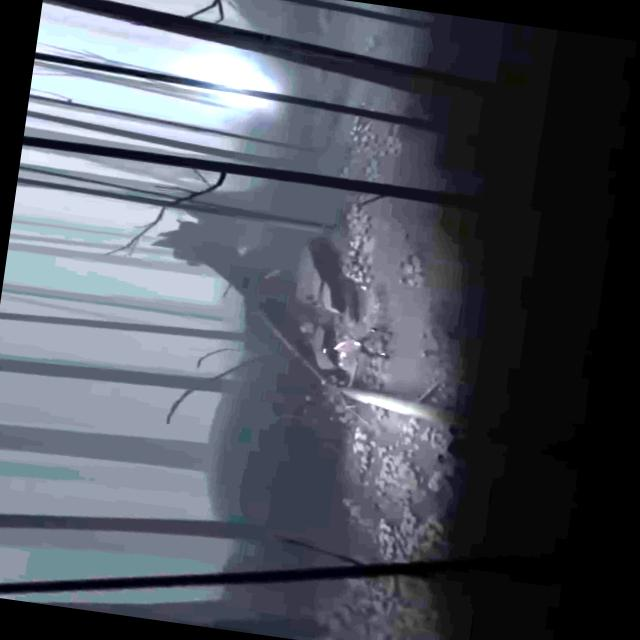boy: (316, 332, 388, 372)
